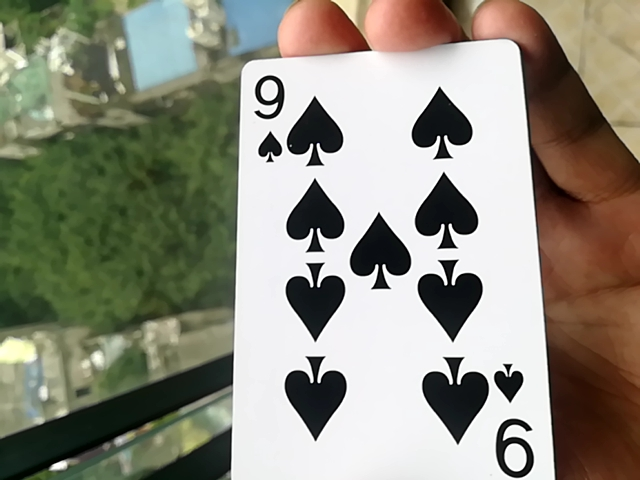ht 9: (214, 36, 546, 477)
